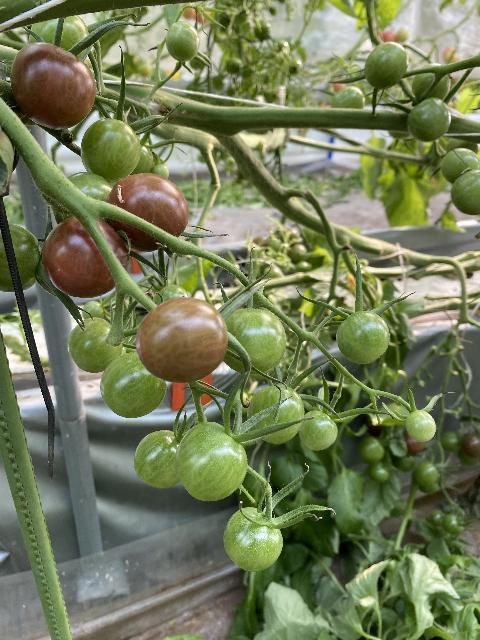l_fully_ripened: (10, 41, 97, 130), (41, 215, 129, 298), (104, 172, 189, 252)
l_green: (174, 420, 248, 501), (100, 351, 168, 419), (222, 309, 286, 374), (81, 118, 141, 183), (224, 507, 283, 573), (247, 385, 304, 444), (53, 172, 114, 227), (68, 318, 122, 373), (336, 311, 390, 365), (29, 15, 90, 62), (0, 224, 42, 292), (134, 430, 182, 489), (365, 41, 409, 89), (406, 97, 451, 142), (298, 410, 339, 451), (412, 63, 451, 103), (165, 21, 200, 62), (440, 148, 479, 184), (451, 170, 480, 216), (405, 410, 436, 442), (330, 86, 365, 109), (154, 285, 189, 307), (131, 144, 153, 174), (83, 300, 104, 320), (148, 164, 169, 179)
l_half_ripened: (136, 297, 228, 383)
